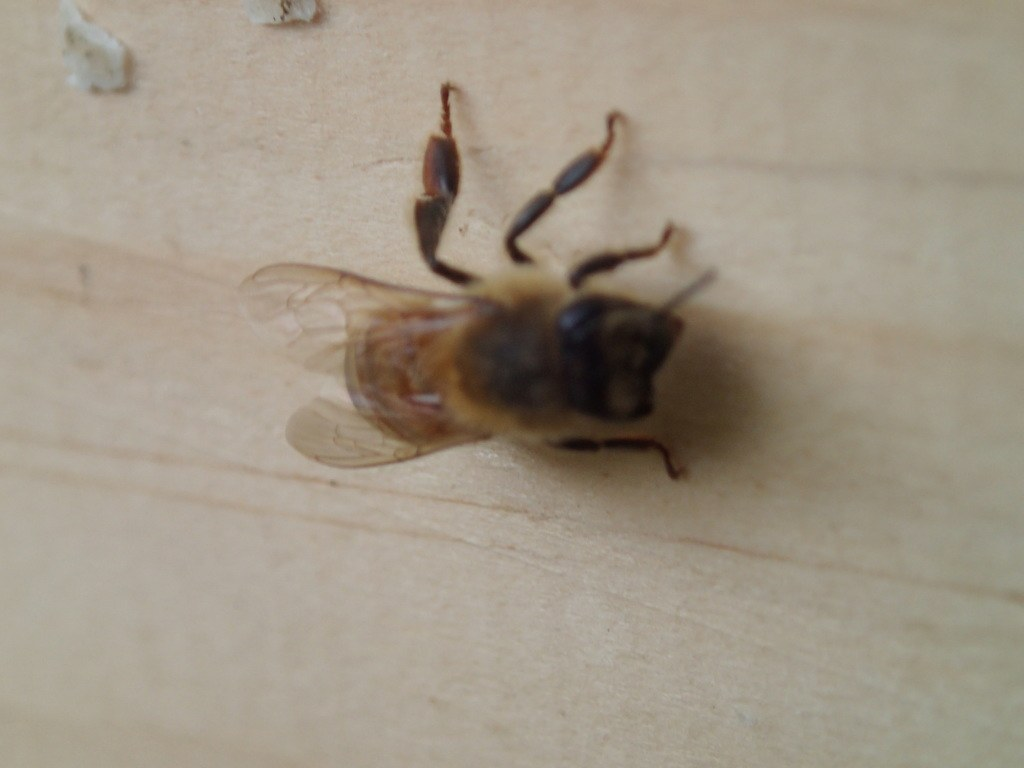bee: (264, 95, 713, 527)
